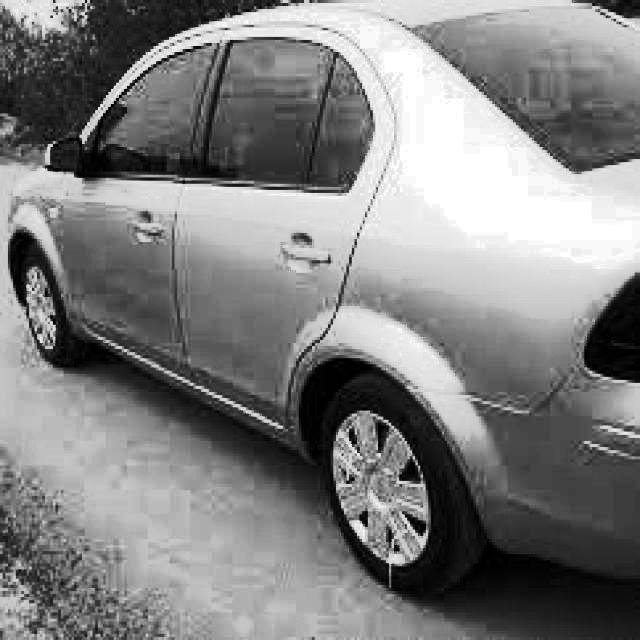Car: (0, 6, 640, 600)
